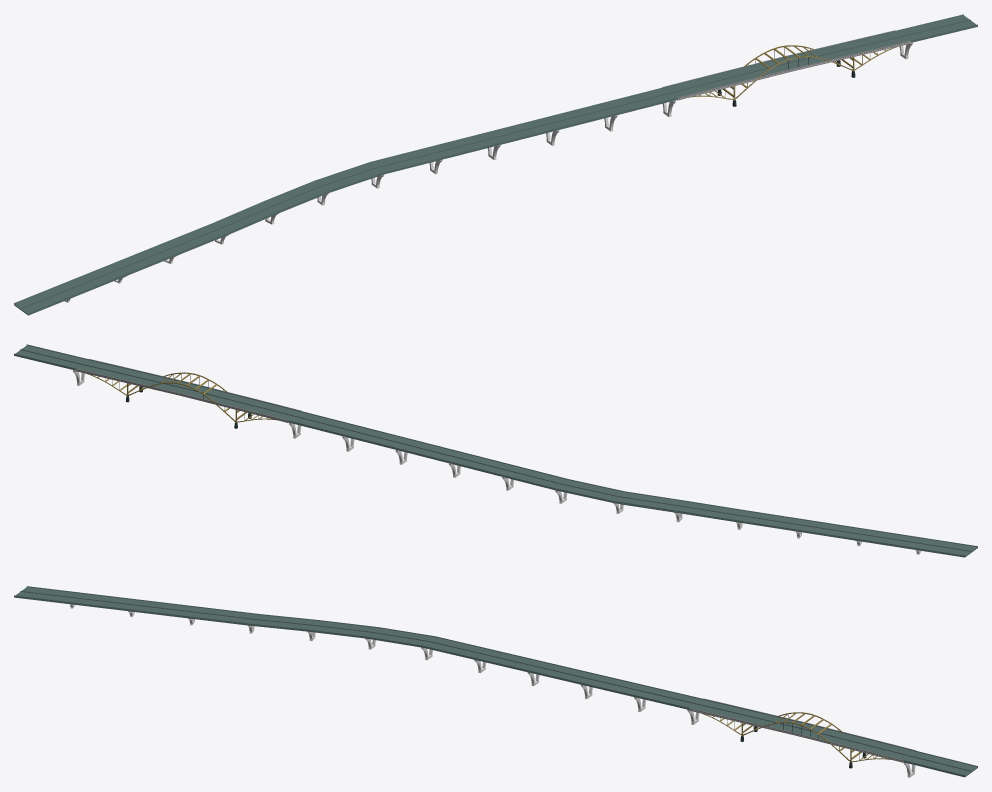
The model's file is Hoan Bridge (OLD 3).FBX.
The picture shows the model from 3 angles, top to bottom: view 1: azimuth 30°, elevation 25°; view 2: azimuth 150°, elevation 25°; view 3: azimuth 330°, elevation 25°; orthographic projection. The views are drawn at different scales.
Parts seen in each view (by area): view 1: Road, Bridge, Box3105; view 2: Road, Bridge, Box3104; view 3: Road, Bridge, Box3105.
Part boxes in pixels (left/top/right/bottom): Road: left=14, top=14, right=977, bottom=315; Bridge: left=691, top=45, right=896, bottom=100; Box3105: left=677, top=41, right=910, bottom=100; Road: left=14, top=344, right=977, bottom=557; Bridge: left=86, top=372, right=276, bottom=422; Box3104: left=75, top=368, right=288, bottom=422; Road: left=14, top=586, right=977, bottom=777; Bridge: left=701, top=712, right=889, bottom=762; Box3105: left=690, top=708, right=903, bottom=762.
Size of the model in its own units: 2081 by 68.41 by 223.
